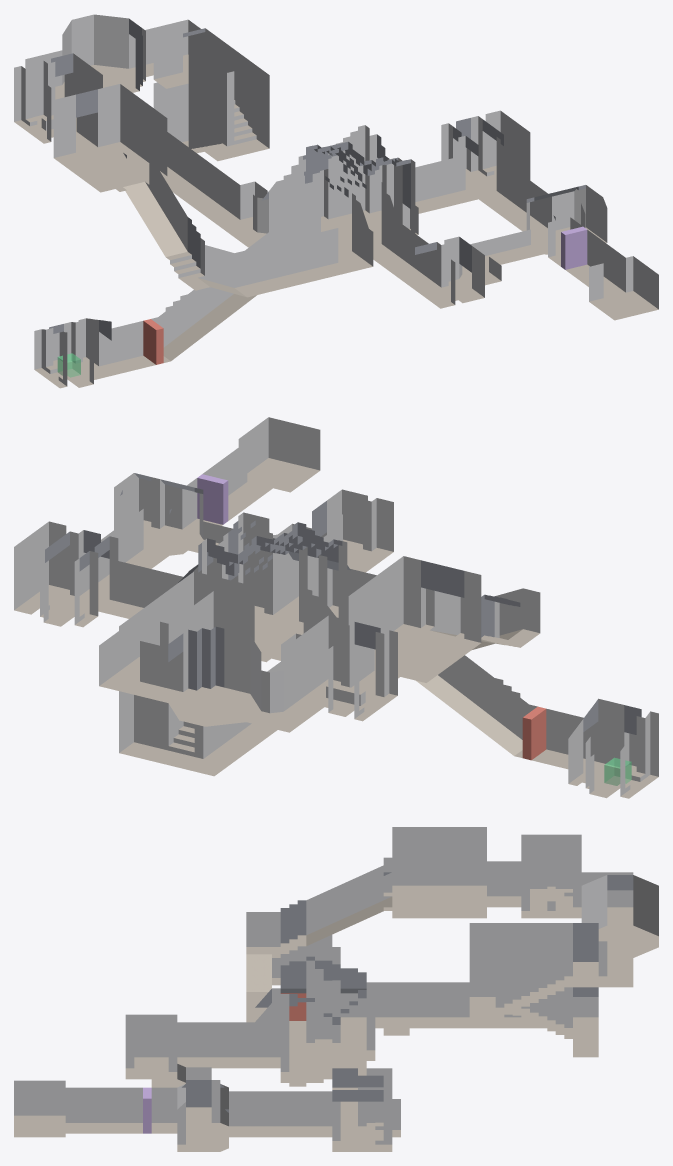
File: research_04.glb
The picture shows the model from 3 angles, top to bottom: view 1: azimuth 30°, elevation 25°; view 2: azimuth 150°, elevation 25°; view 3: azimuth 270°, elevation 25°; orthographic projection. The views are drawn at different scales.
Visible parts, largest first — view 1: corridor:8, room:7, corridor:0, corridor:1, corridor:6, room:1, room:3, room:6, room:0, corridor:3, room:4, room:2 (+19 smaller); view 2: corridor:8, corridor:0, room:7, corridor:1, room:3, room:0, room:2, room:6, room:1, room:4, room:5, corridor:6 (+15 smaller); view 3: corridor:8, room:7, corridor:6, corridor:0, corridor:5, corridor:3, room:1, room:0, corridor:4, room:3, room:6, room:4 (+11 smaller).
Boxes of the visible parts, box(x1,y1,x2,y2) form: corridor:8: box(53, 84, 373, 297); room:7: box(153, 28, 269, 161); corridor:0: box(25, 14, 205, 99); corridor:1: box(99, 223, 291, 375); corridor:6: box(164, 132, 268, 247); room:1: box(283, 125, 415, 258); room:3: box(441, 110, 530, 200); room:6: box(589, 256, 658, 320); room:0: box(14, 53, 102, 143); corridor:3: box(479, 159, 551, 236); room:4: box(526, 185, 607, 255); room:2: box(34, 318, 111, 388); corridor:8: box(327, 556, 540, 690); corridor:0: box(99, 626, 319, 732); room:7: box(119, 571, 254, 767); corridor:1: box(416, 655, 598, 772); room:3: box(14, 521, 118, 627); room:0: box(293, 615, 397, 721); room:2: box(568, 698, 658, 798); room:6: box(238, 417, 320, 492); room:1: box(218, 512, 347, 660); room:4: box(114, 473, 203, 555); room:5: box(312, 489, 393, 572); corridor:6: box(180, 621, 348, 776); corridor:8: box(246, 827, 521, 1022); room:7: box(469, 923, 598, 1057); corridor:6: box(340, 982, 598, 1035); corridor:0: box(581, 872, 658, 987); corridor:5: box(65, 1087, 177, 1133); corridor:3: box(229, 1091, 332, 1137); room:1: box(280, 956, 366, 1082); room:0: box(521, 834, 581, 918); corridor:4: box(177, 1022, 254, 1068); room:3: box(332, 1068, 392, 1151); room:6: box(14, 1080, 65, 1137); room:4: box(177, 1080, 228, 1151).
Bounding box in the file's own units: 67 × 24.5 × 75.
